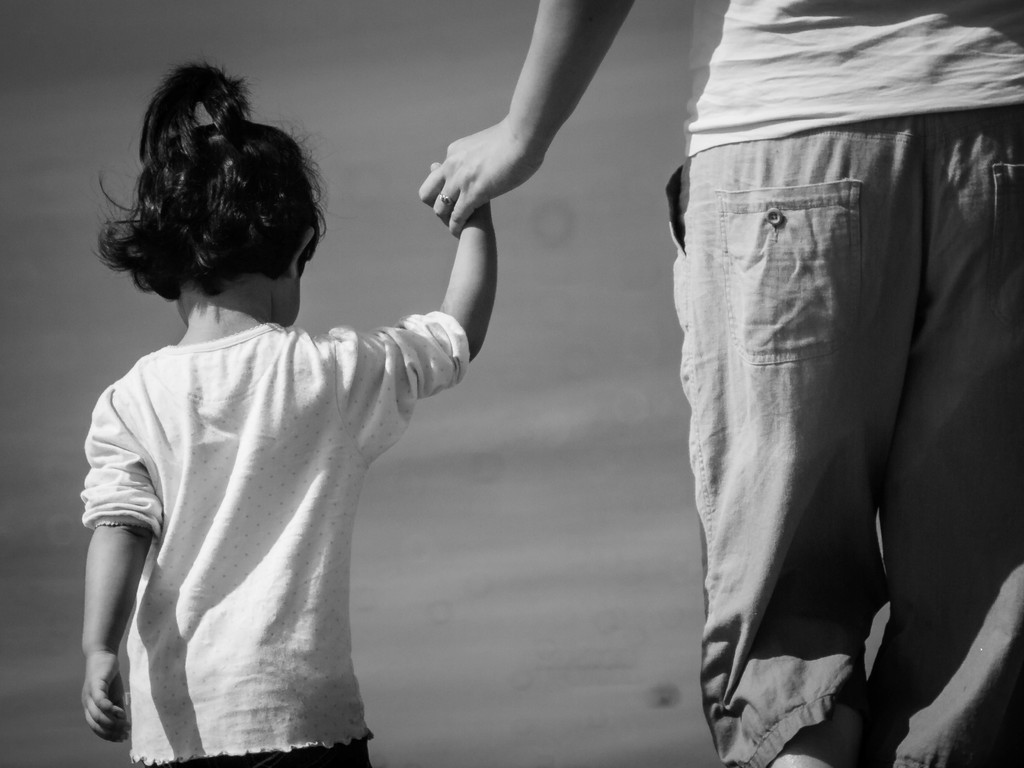Person: (418, 0, 1024, 768)
